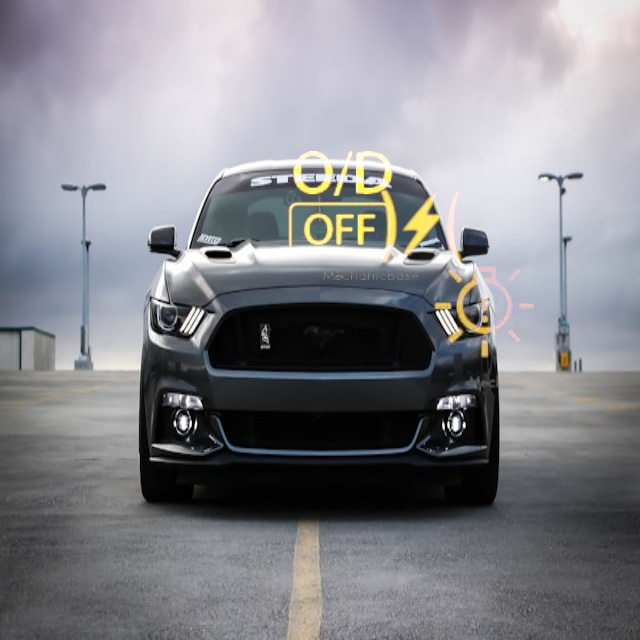symbol: (256, 120, 425, 289), (403, 229, 570, 396), (347, 153, 496, 302)
